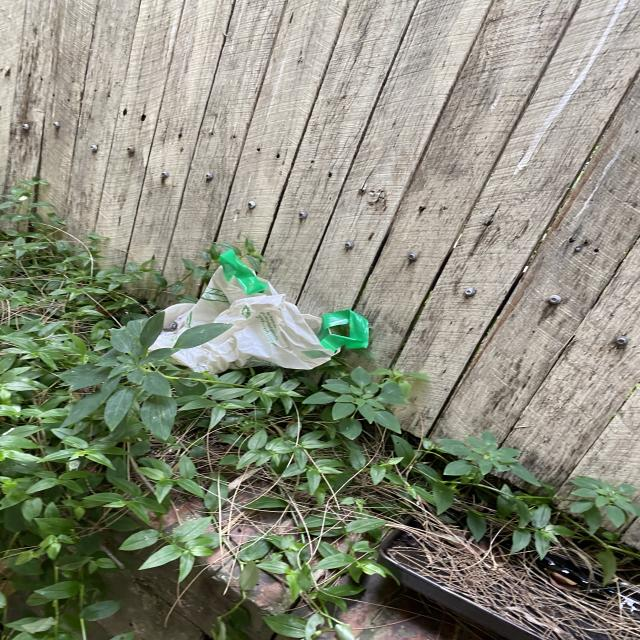bag: (146, 248, 370, 374)
